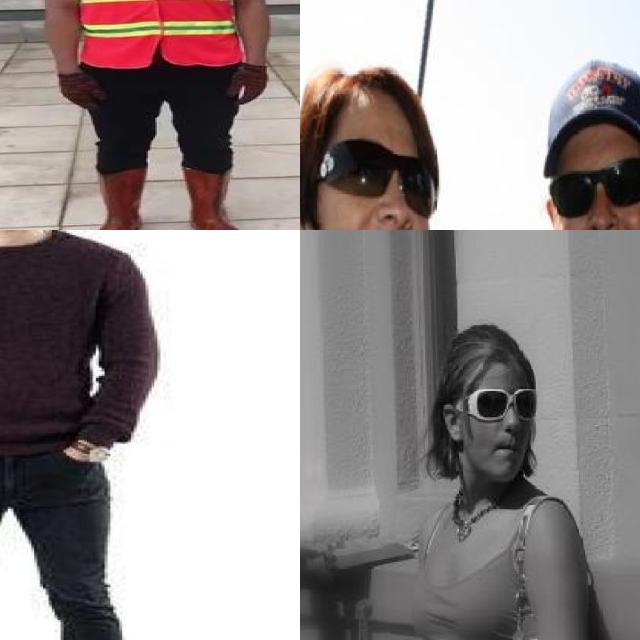boots: (181, 164, 247, 230), (87, 170, 151, 230)
face_nomask: (324, 134, 438, 230), (459, 386, 543, 467), (550, 159, 640, 230)
glasses: (314, 133, 443, 221), (543, 154, 640, 219), (454, 387, 536, 424)
hand_glove: (58, 73, 106, 112), (228, 65, 267, 105)
head_nohelmet: (300, 65, 429, 136), (543, 73, 640, 157), (440, 321, 538, 386)
person: (398, 317, 615, 640), (0, 230, 159, 640), (24, 0, 291, 230), (448, 61, 640, 230), (300, 67, 440, 230)
vest: (70, 0, 237, 68)
